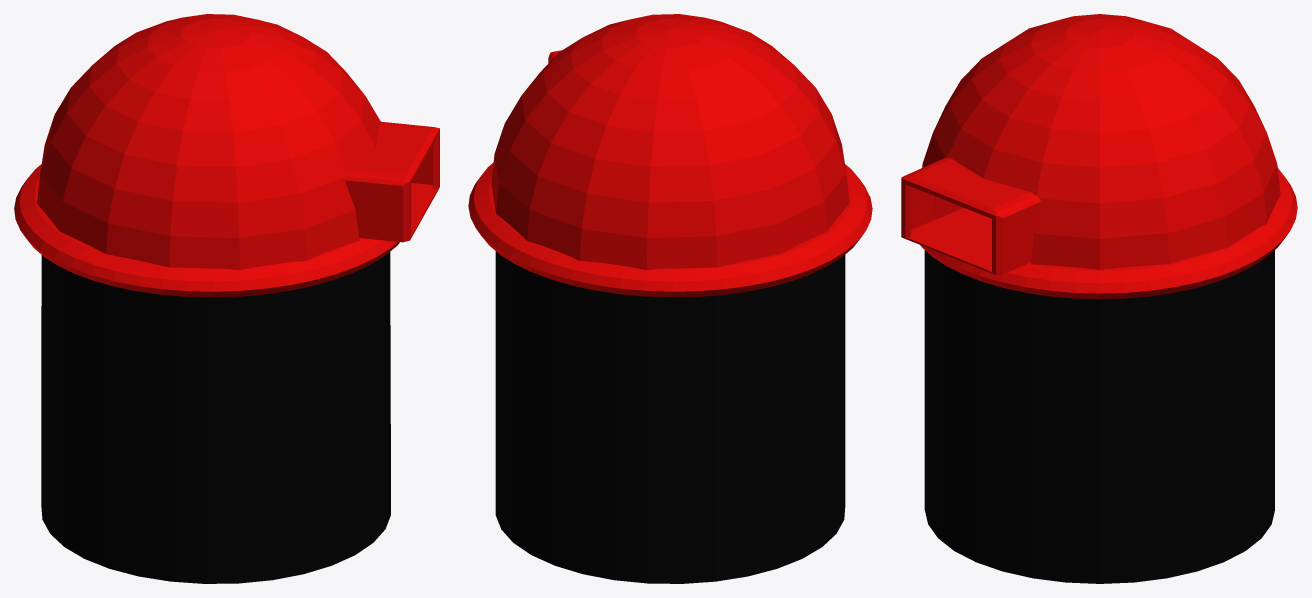
File: trachcan_lobby.fbx
3 renders of one model, left to right at view 1: azimuth 30°, elevation 25°; view 2: azimuth 150°, elevation 25°; view 3: azimuth 270°, elevation 25°, orthographic.
Visible parts, largest first — view 1: Cylinder, Sphere, Torus.001, Cube; view 2: Cylinder, Sphere, Torus.001; view 3: Cylinder, Sphere, Cube, Torus.001.
Part boxes in pixels (bbox=[...]): Cylinder: bbox=[41, 252, 390, 583]; Sphere: bbox=[37, 14, 380, 270]; Torus.001: bbox=[14, 164, 399, 297]; Cube: bbox=[344, 121, 439, 242]; Cylinder: bbox=[495, 251, 845, 583]; Sphere: bbox=[491, 14, 849, 270]; Torus.001: bbox=[468, 162, 872, 297]; Cylinder: bbox=[924, 250, 1274, 583]; Sphere: bbox=[922, 14, 1280, 269]; Cube: bbox=[901, 157, 1041, 274]; Torus.001: bbox=[920, 168, 1297, 299].
Size of the model in its own units: 2.32 by 3.02 by 2.26.
